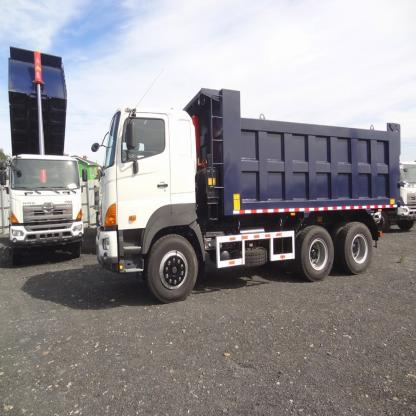dump_truck: (92, 76, 408, 302), (4, 44, 94, 268)
